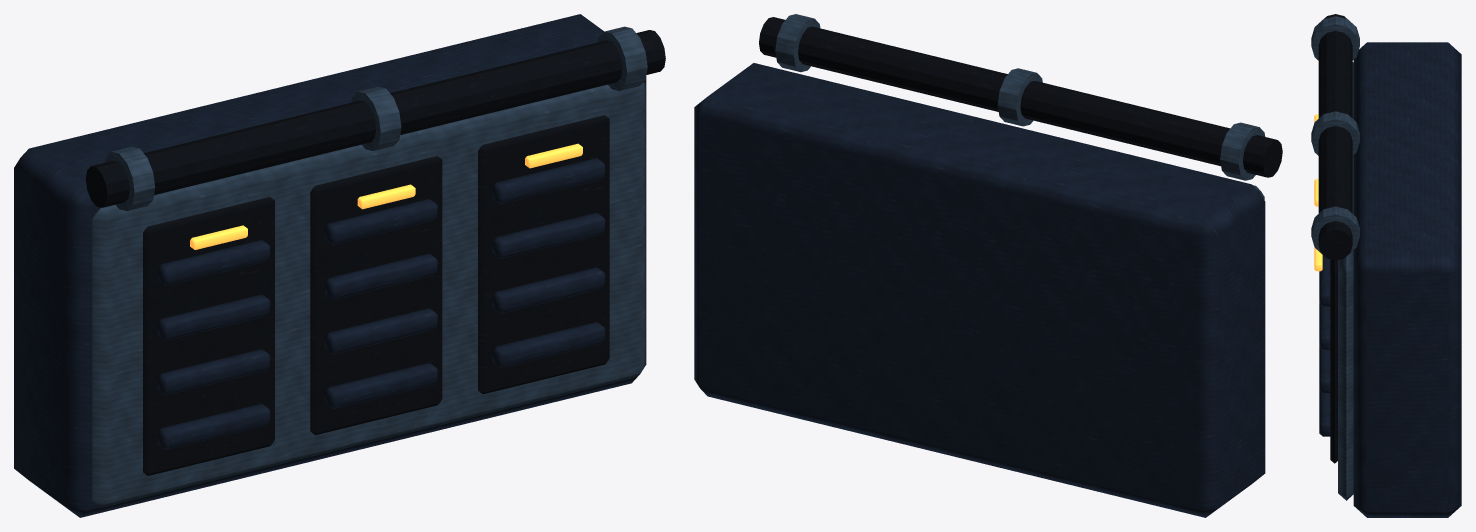
The model's file is transformer.glb.
3 renders of one model, left to right at view 1: azimuth 30°, elevation 25°; view 2: azimuth 150°, elevation 25°; view 3: azimuth 270°, elevation 25°, orthographic. The views are drawn at different scales.
Parts seen in each view (by area): view 1: transformer - Recessed iron, transformer - Blue steel, transformer - Brushed gunmetal, transformer - Hot service LEDs; view 2: transformer - Blue steel, transformer - Recessed iron, transformer - Brushed gunmetal; view 3: transformer - Blue steel, transformer - Recessed iron, transformer - Brushed gunmetal, transformer - Hot service LEDs.
Boxes of the visible parts, x1,y1,x2,y2 form: transformer - Recessed iron: (85, 30, 665, 475); transformer - Blue steel: (14, 14, 646, 517); transformer - Brushed gunmetal: (92, 26, 647, 507); transformer - Hot service LEDs: (190, 143, 582, 249); transformer - Blue steel: (694, 63, 1265, 517); transformer - Recessed iron: (759, 17, 1282, 177); transformer - Brushed gunmetal: (775, 14, 1265, 199); transformer - Blue steel: (1319, 42, 1461, 517); transformer - Recessed iron: (1318, 14, 1352, 463); transformer - Brushed gunmetal: (1311, 16, 1359, 500); transformer - Hot service LEDs: (1314, 114, 1322, 271).
Bounding box in the file's own units: 5.9 × 3.63 × 1.67.
4 materials, 3 textured.
